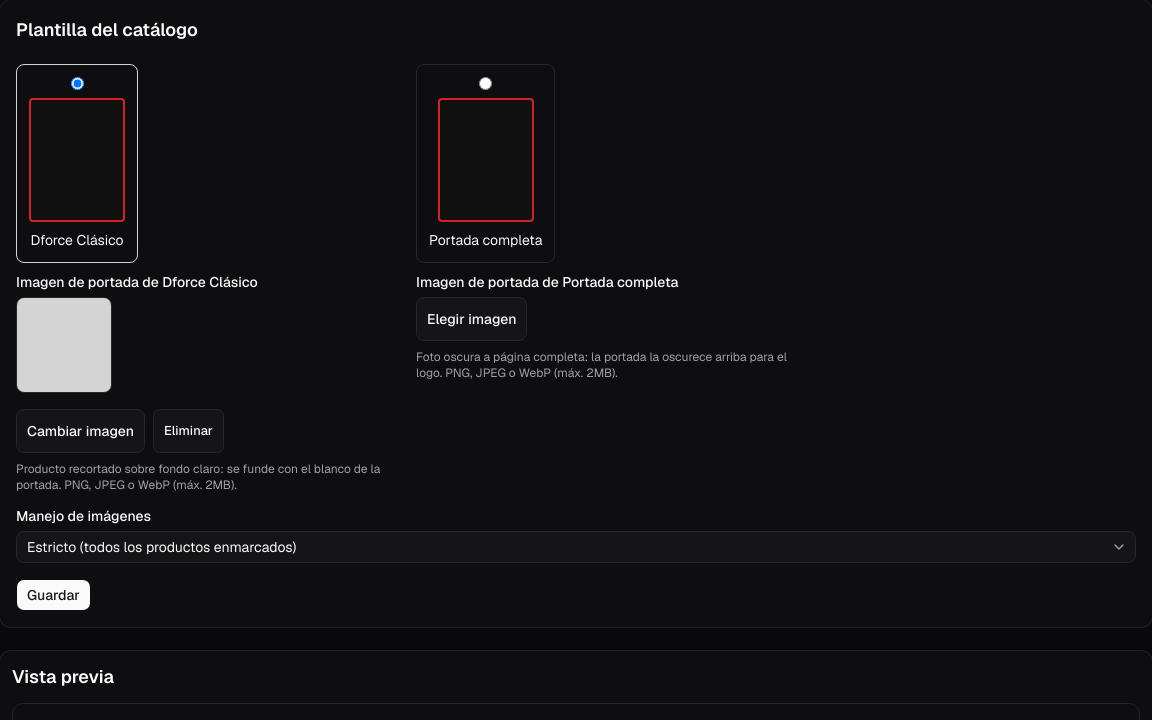
Test: TemplateConfigForm — per-template cover image slots › removing an image toasts 'Imagen de portada quitada' and DELETEs that template's route
The image size is (1152, 720).
Click the button "Eliminar" at (188, 431), box [153,409,224,453]
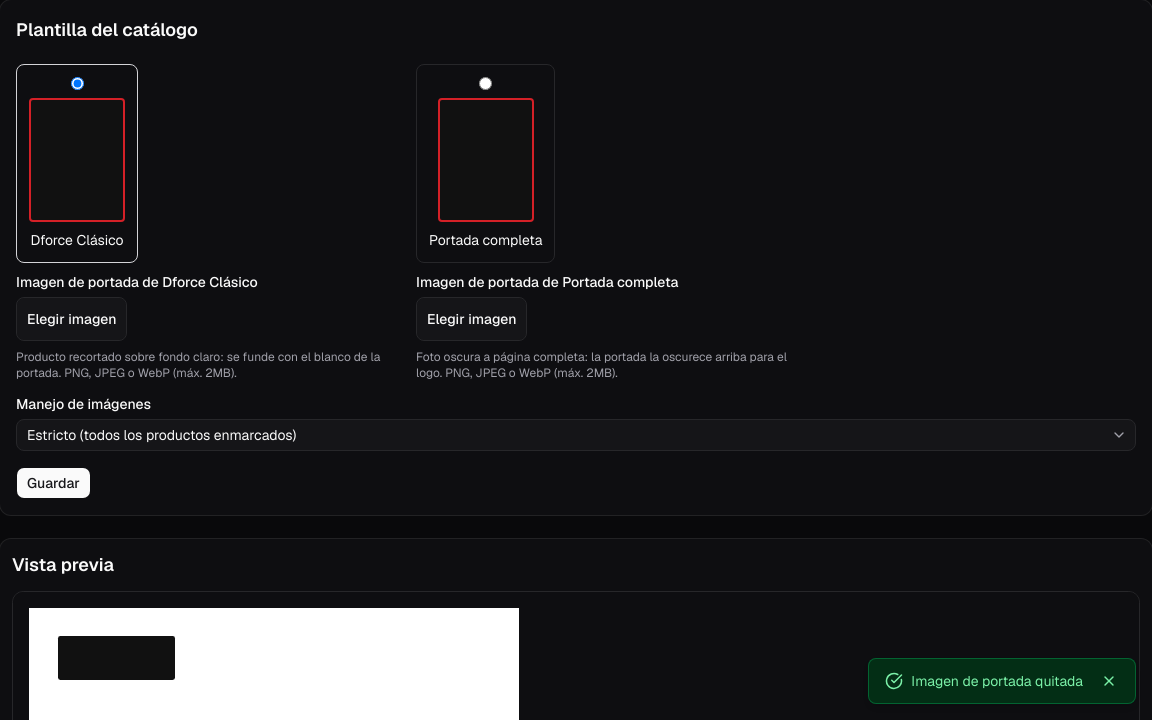
Now the text "Imagen de portada quitada" is shown, box [911,671,1083,691]
